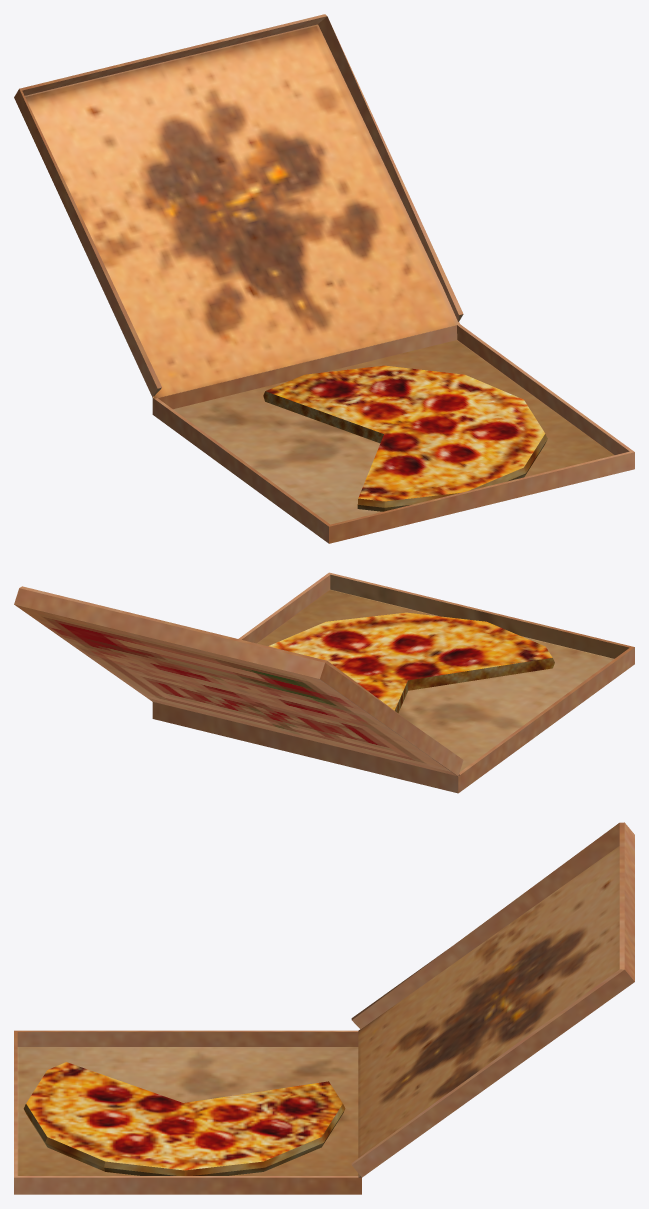
File: pizza_quarter_eaten.obj
3 renders of one model, top to bottom at view 1: azimuth 30°, elevation 25°; view 2: azimuth 150°, elevation 25°; view 3: azimuth 270°, elevation 25°, orthographic.
Visible parts, largest first — view 1: pizza_quarter_eaten; view 2: pizza_quarter_eaten; view 3: pizza_quarter_eaten.
Boxes of the visible parts, x1,y1,x2,y2 form: pizza_quarter_eaten: [14, 14, 634, 543]; pizza_quarter_eaten: [14, 572, 634, 793]; pizza_quarter_eaten: [14, 822, 634, 1194].
Size of the model in its own units: 0.5276 by 0.3762 by 0.9413.
